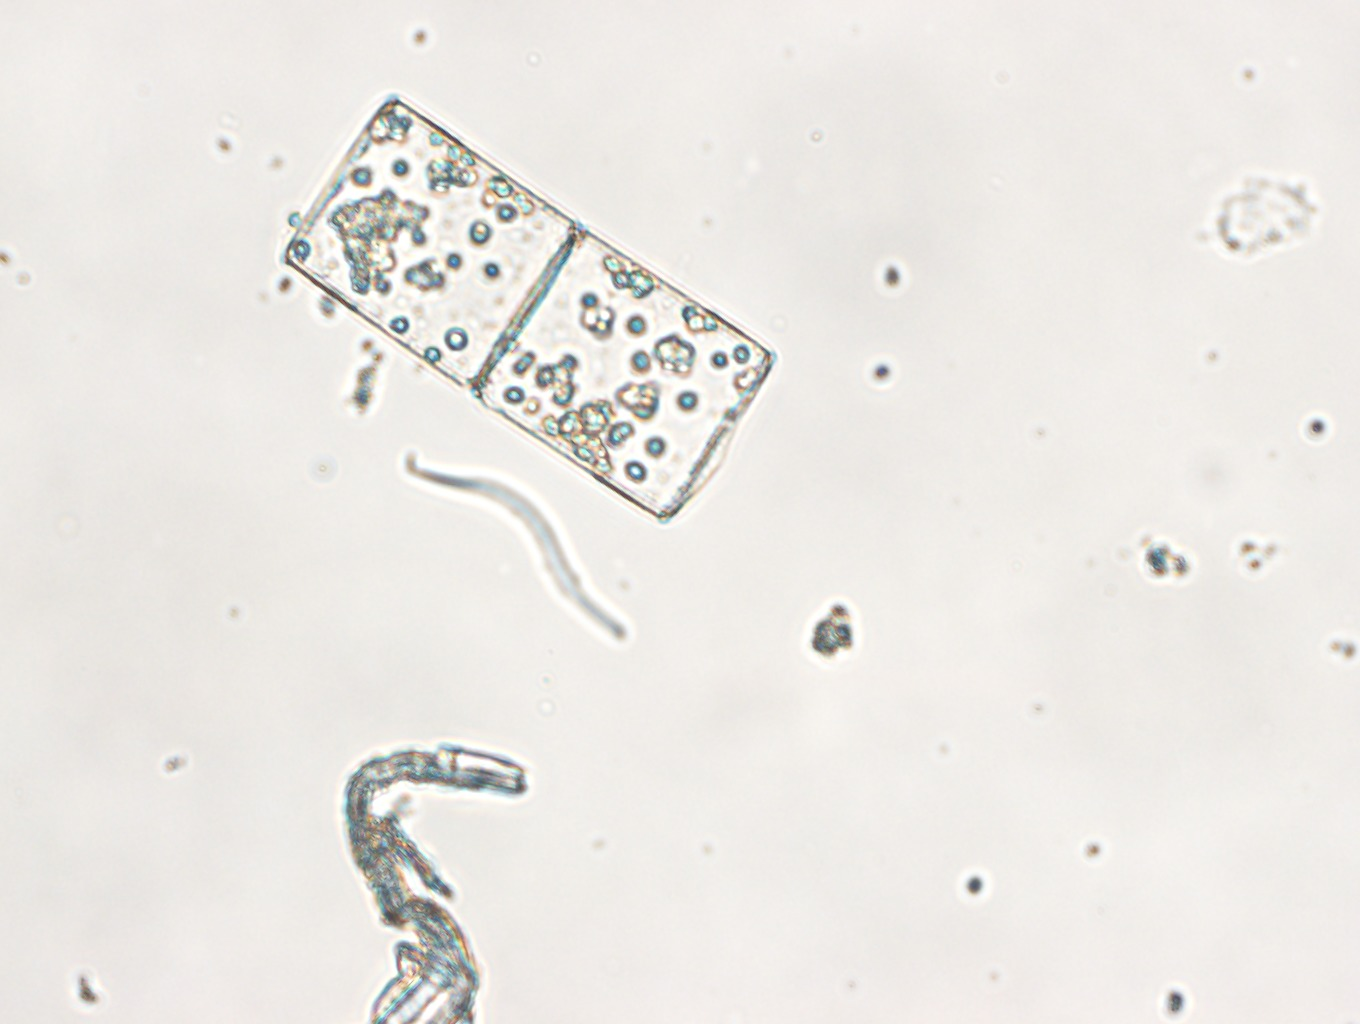guinardia flaccida: (280, 94, 777, 524)
